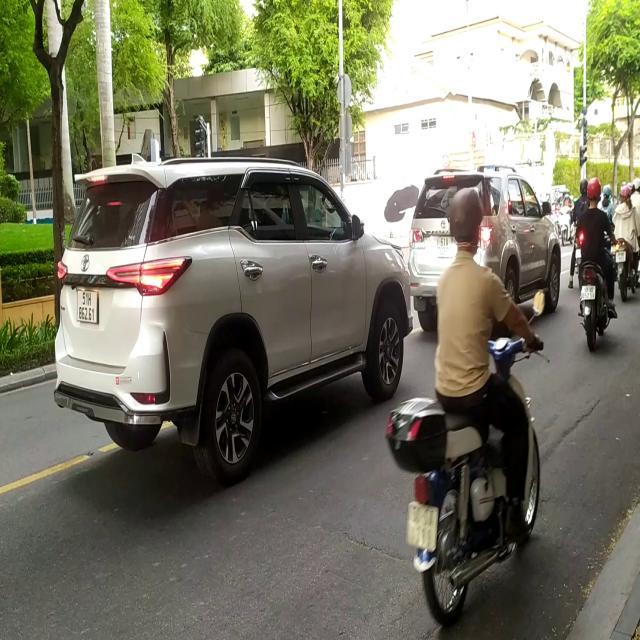bien_trang: (73, 282, 102, 328)
